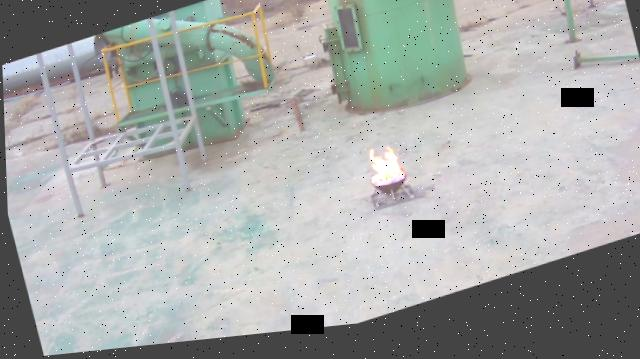fire: (366, 150, 401, 189)
